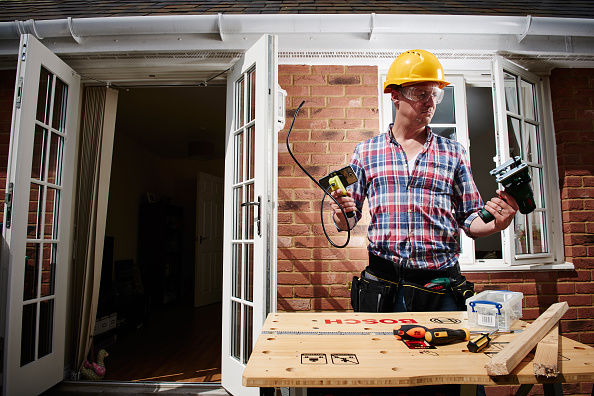em pe: (350, 55, 518, 330)
